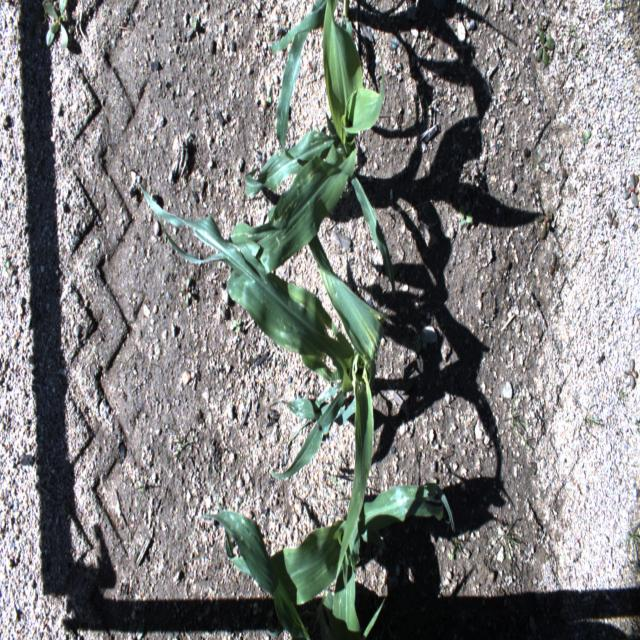crop: (139, 186, 406, 564), (218, 3, 399, 305), (224, 476, 456, 602), (198, 511, 388, 639)
weed: (41, 0, 72, 50), (166, 126, 191, 182), (532, 15, 554, 63), (532, 201, 556, 242), (620, 175, 638, 212), (603, 205, 621, 231)
